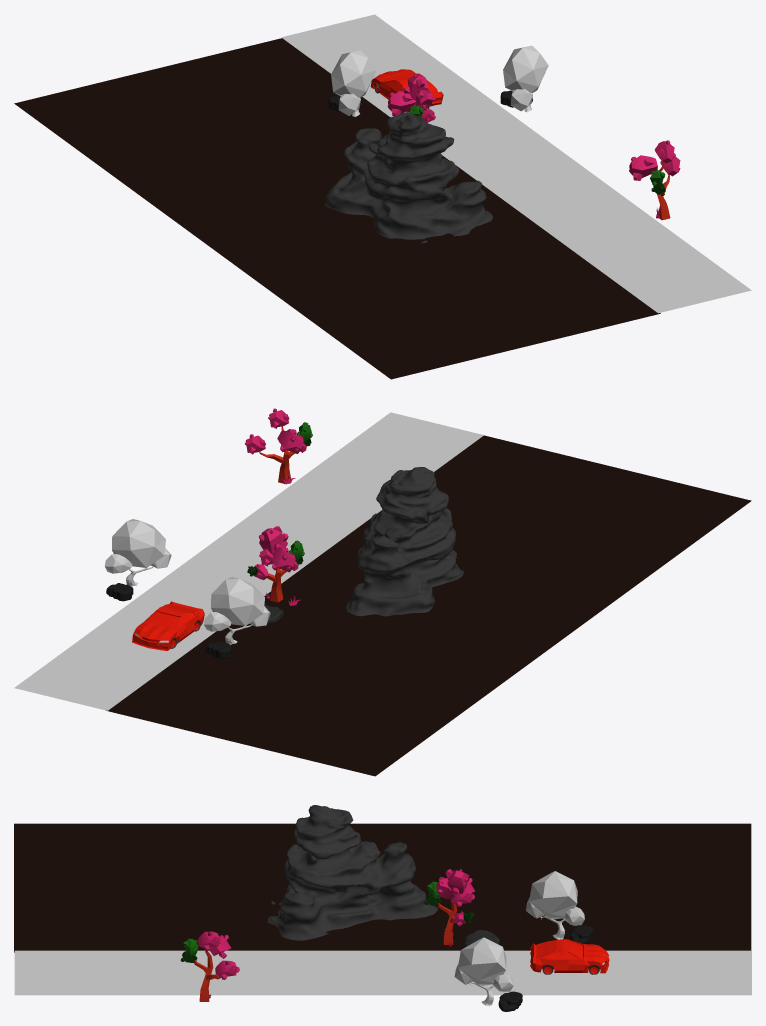
3 renders of one model, top to bottom at view 1: azimuth 30°, elevation 25°; view 2: azimuth 150°, elevation 25°; view 3: azimuth 270°, elevation 25°, orthographic. The views are drawn at different scales.
Visible parts, largest first — view 1: Plane.004_Plane.010, Plane, LargeCaveRock, yaprak1_Icosphere.002, yaprak1.001_Icosphere.003, Cube; view 2: Plane.004_Plane.010, Plane, LargeCaveRock, Cube, yaprak1_Icosphere.002, yaprak1.001_Icosphere.003; view 3: Plane.004_Plane.010, Plane, LargeCaveRock, Cube, yaprak1.001_Icosphere.003, yaprak1_Icosphere.002, Trunk.001_Plane.009, BranchesCBranchesuBranchesbBrancheseBranches.Branches0Branc.004_, CavePlatform2-1, Trunk_Plane.007, CavePlatform2-1.001.
Part boxes in pixels (x1=…): Plane.004_Plane.010: x1=14, y1=38, x2=660, y2=379; Plane: x1=281, y1=14, x2=751, y2=313; LargeCaveRock: x1=325, y1=112, x2=492, y2=243; yaprak1_Icosphere.002: x1=503, y1=45, x2=548, y2=92; yaprak1.001_Icosphere.003: x1=331, y1=50, x2=376, y2=97; Cube: x1=370, y1=69, x2=443, y2=111; Plane.004_Plane.010: x1=106, y1=435, x2=751, y2=776; Plane: x1=14, y1=412, x2=483, y2=710; LargeCaveRock: x1=346, y1=467, x2=463, y2=616; Cube: x1=132, y1=601, x2=204, y2=650; yaprak1_Icosphere.002: x1=112, y1=519, x2=165, y2=567; yaprak1.001_Icosphere.003: x1=211, y1=577, x2=264, y2=625; Plane.004_Plane.010: x1=14, y1=823, x2=751, y2=952; Plane: x1=14, y1=950, x2=751, y2=995; LargeCaveRock: x1=267, y1=805, x2=437, y2=940; Cube: x1=530, y1=939, x2=609, y2=974; yaprak1.001_Icosphere.003: x1=529, y1=871, x2=577, y2=919; yaprak1_Icosphere.002: x1=458, y1=937, x2=506, y2=985; Trunk.001_Plane.009: x1=194, y1=950, x2=221, y2=1001; BranchesCBranchesuBranchesbBrancheseBranches.Branches0Branc.004_: x1=445, y1=869, x2=469, y2=894; CavePlatform2-1: x1=498, y1=991, x2=522, y2=1011; Trunk_Plane.007: x1=438, y1=902, x2=456, y2=944; CavePlatform2-1.001: x1=570, y1=925, x2=593, y2=944.
Size of the model in its own units: 22.29 by 5.86 by 36.61.
